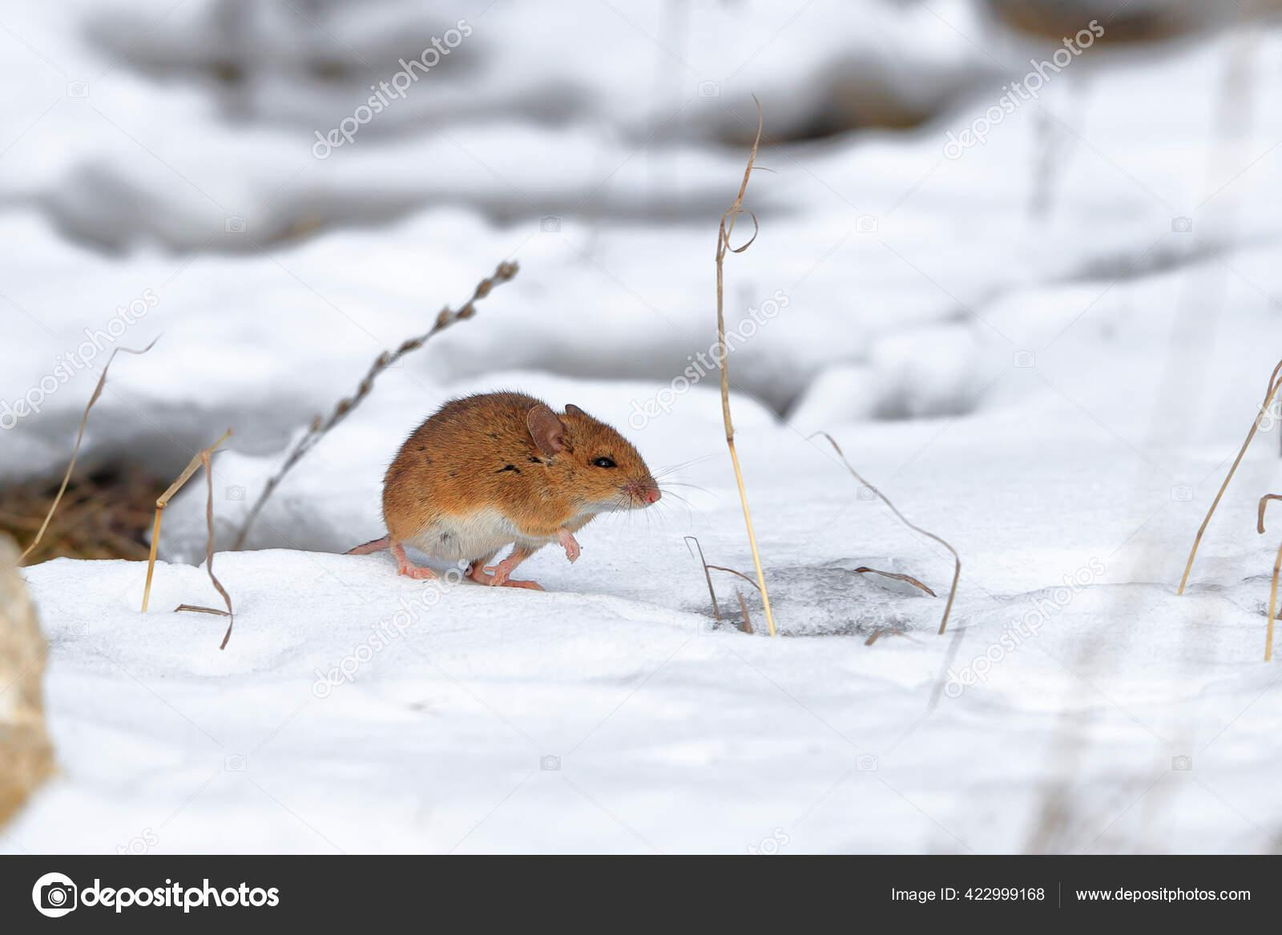rat: (343, 392, 659, 591)
